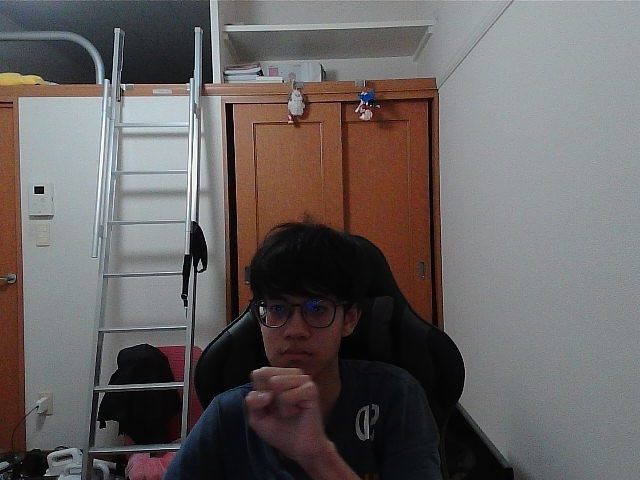closed_palm: (250, 374, 310, 451)
